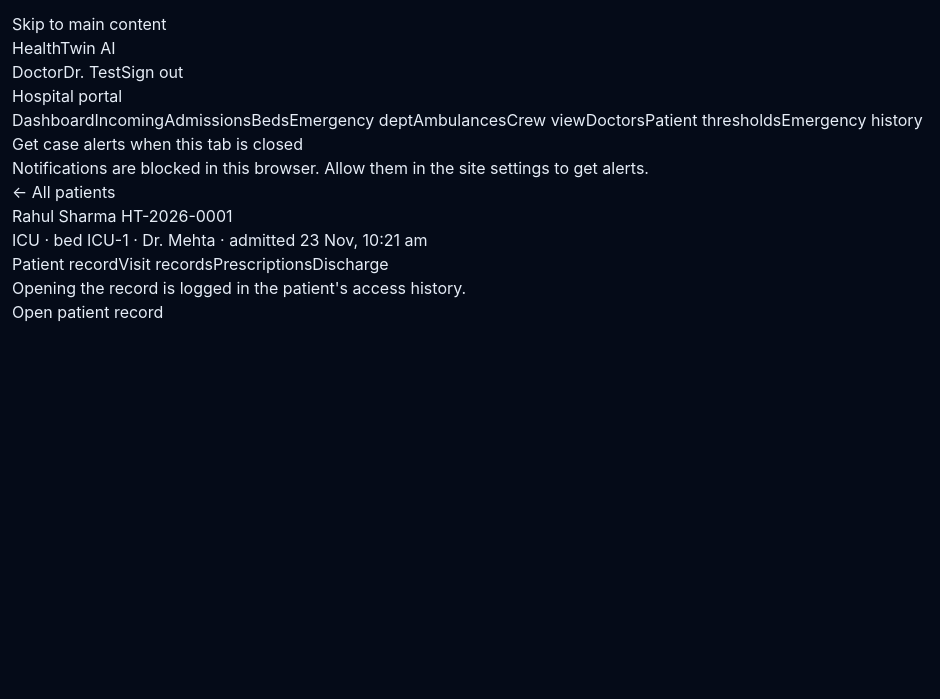
Test case: prescriptions (88) and discharge (89) › does not load the patient record until it is opened on purpose
Expected: the heading "Rahul Sharma HT-2026-0001" is shown, [12,206,232,226]
Click the button "Open patient record". click: (88, 312)
box: [12,300,163,324]
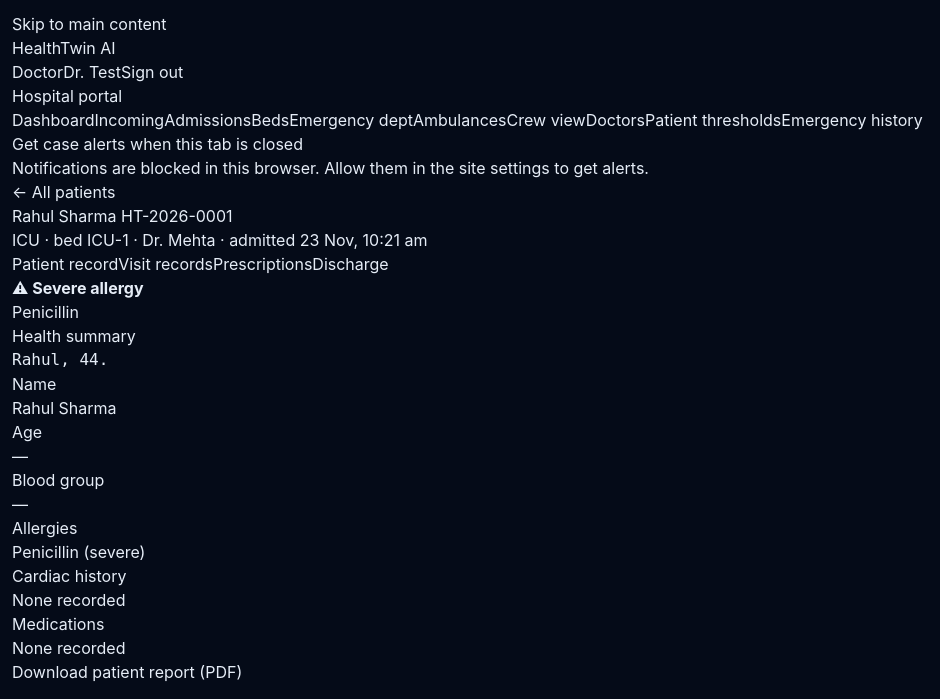
Result: the message shows "Penicillin" at [12,302,79,322]
